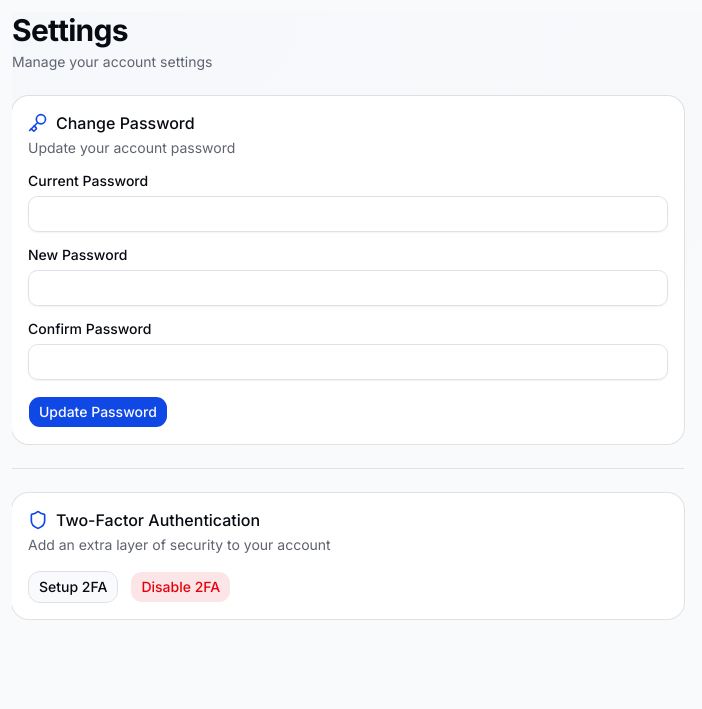
Settings Feature › should validate password change form
Click the button "Update Password".
click(98, 412)  # box [28,396,168,428]
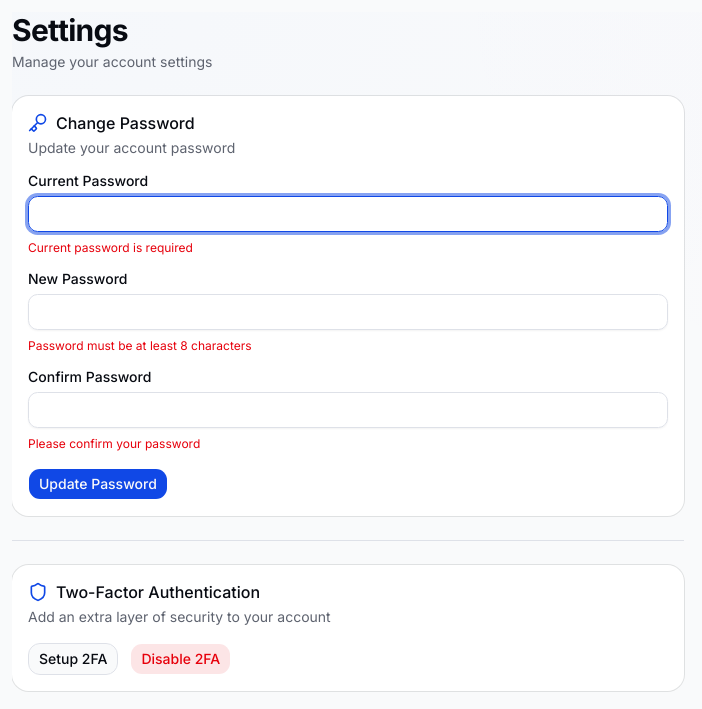
Check: the text "Current password is required" is shown, box [28,240,193,255]
